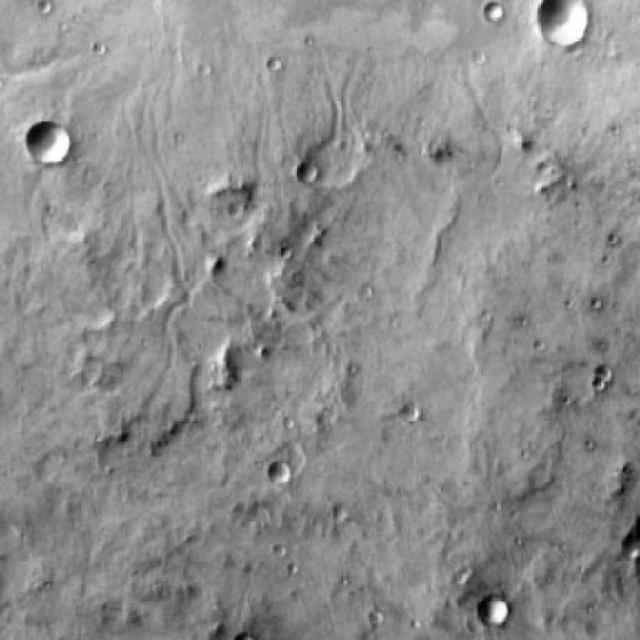crater: (539, 0, 592, 46), (30, 121, 70, 165), (478, 593, 510, 625), (267, 463, 290, 486), (296, 161, 319, 184), (598, 368, 617, 387), (485, 5, 503, 23), (370, 609, 388, 626), (402, 408, 418, 424), (270, 61, 285, 76)
